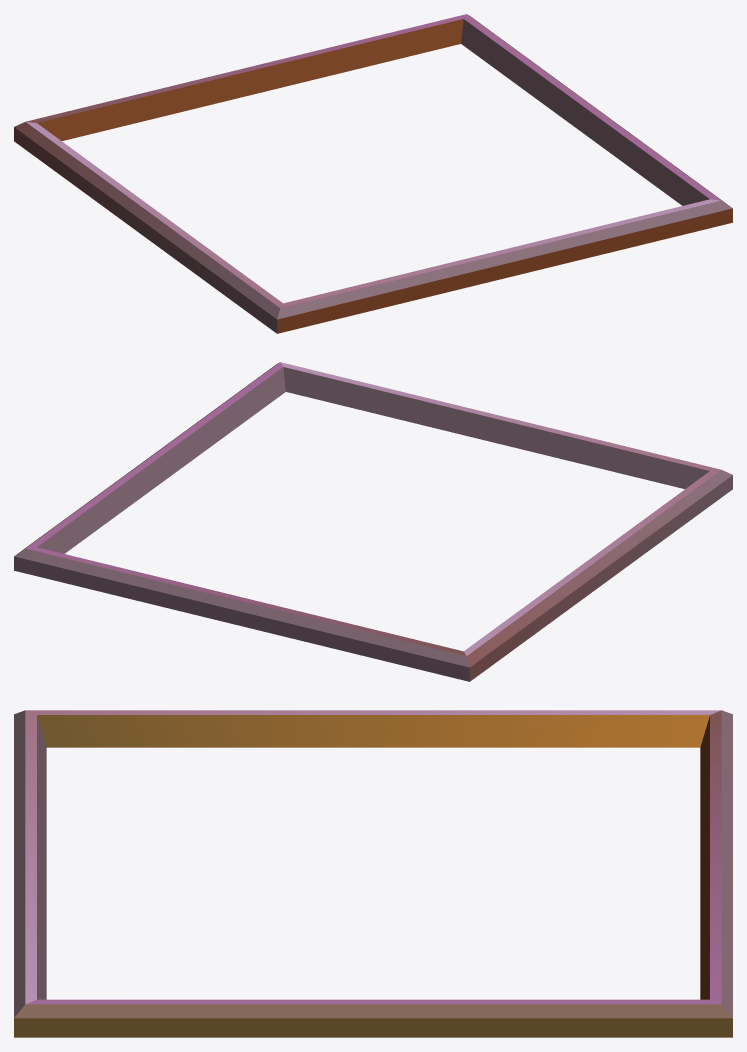
Rendered from vc_frame_square_001.fbx.
3 views of the same model, one above another, from view 1: azimuth 30°, elevation 25°; view 2: azimuth 150°, elevation 25°; view 3: azimuth 270°, elevation 25° (orthographic). The views are drawn at different scales.
Visible parts, largest first — view 1: Cube; view 2: Cube; view 3: Cube.
Boxes of the visible parts, <box> form: Cube: <box>14,14,732,333</box>; Cube: <box>14,362,732,681</box>; Cube: <box>14,710,732,1037</box>.
Bounding box in the file's own units: 50 × 2.18 × 50.
